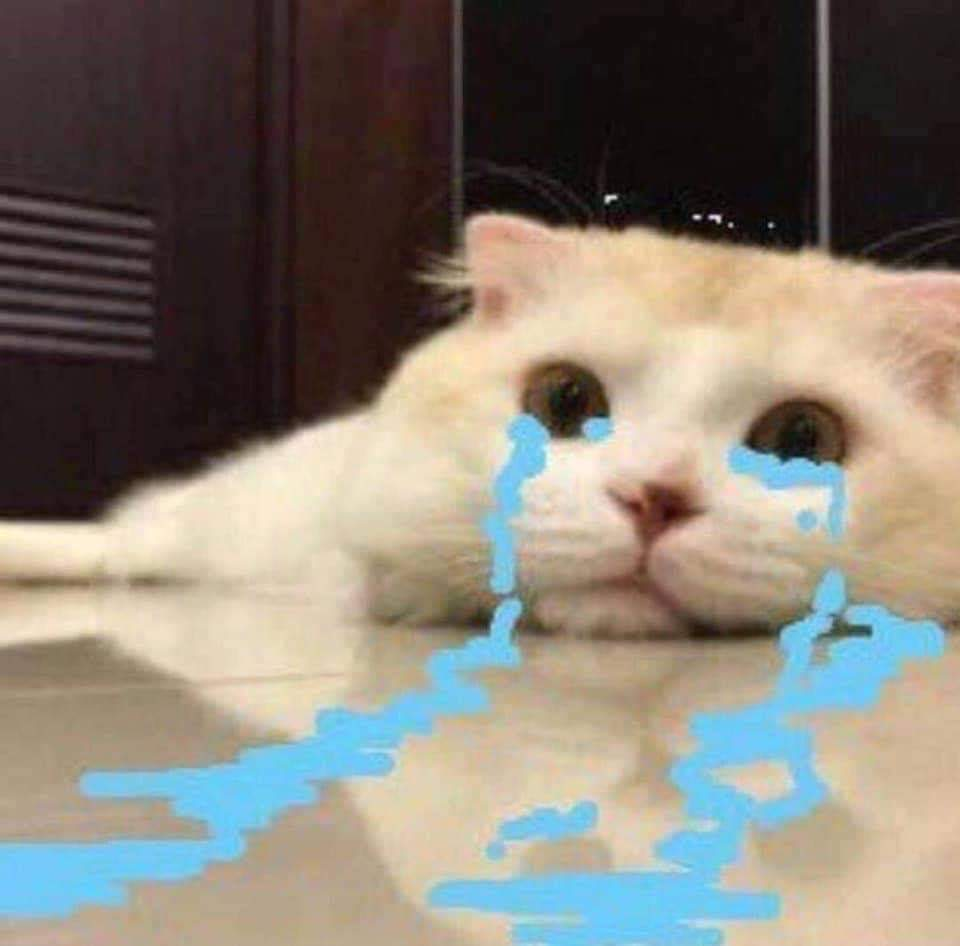cat: (5, 211, 960, 624)
